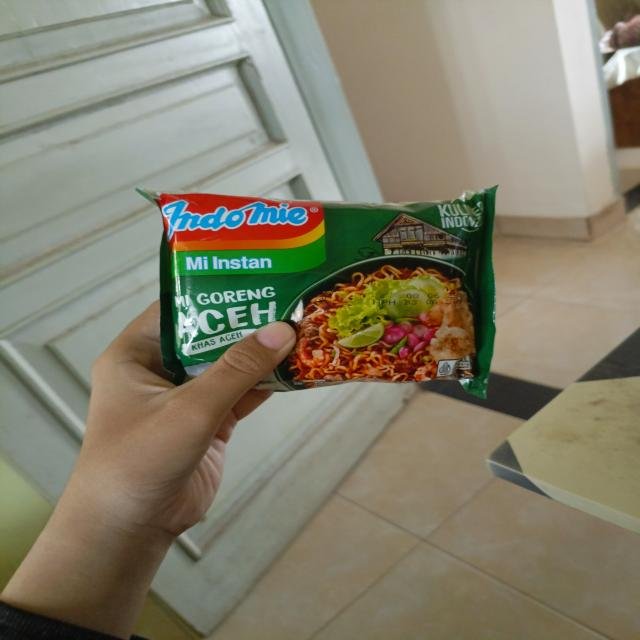gery-salut-coconut: (128, 185, 504, 404)
